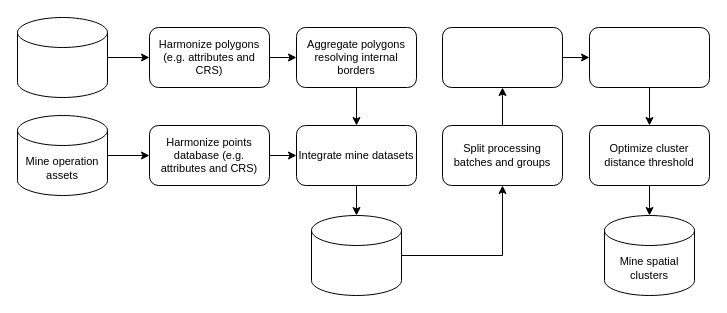
Some shapes in this 727 by 313 pixel diagram are drawn without their labels. Each missing label, with the centre of its shape:
Calculate distance matrix per batch: the point at 502,57
Cluster spatial features per batch: the point at 649,57
Mine polygon assets: the point at 62,57
Mines spatial database: the point at 356,255
